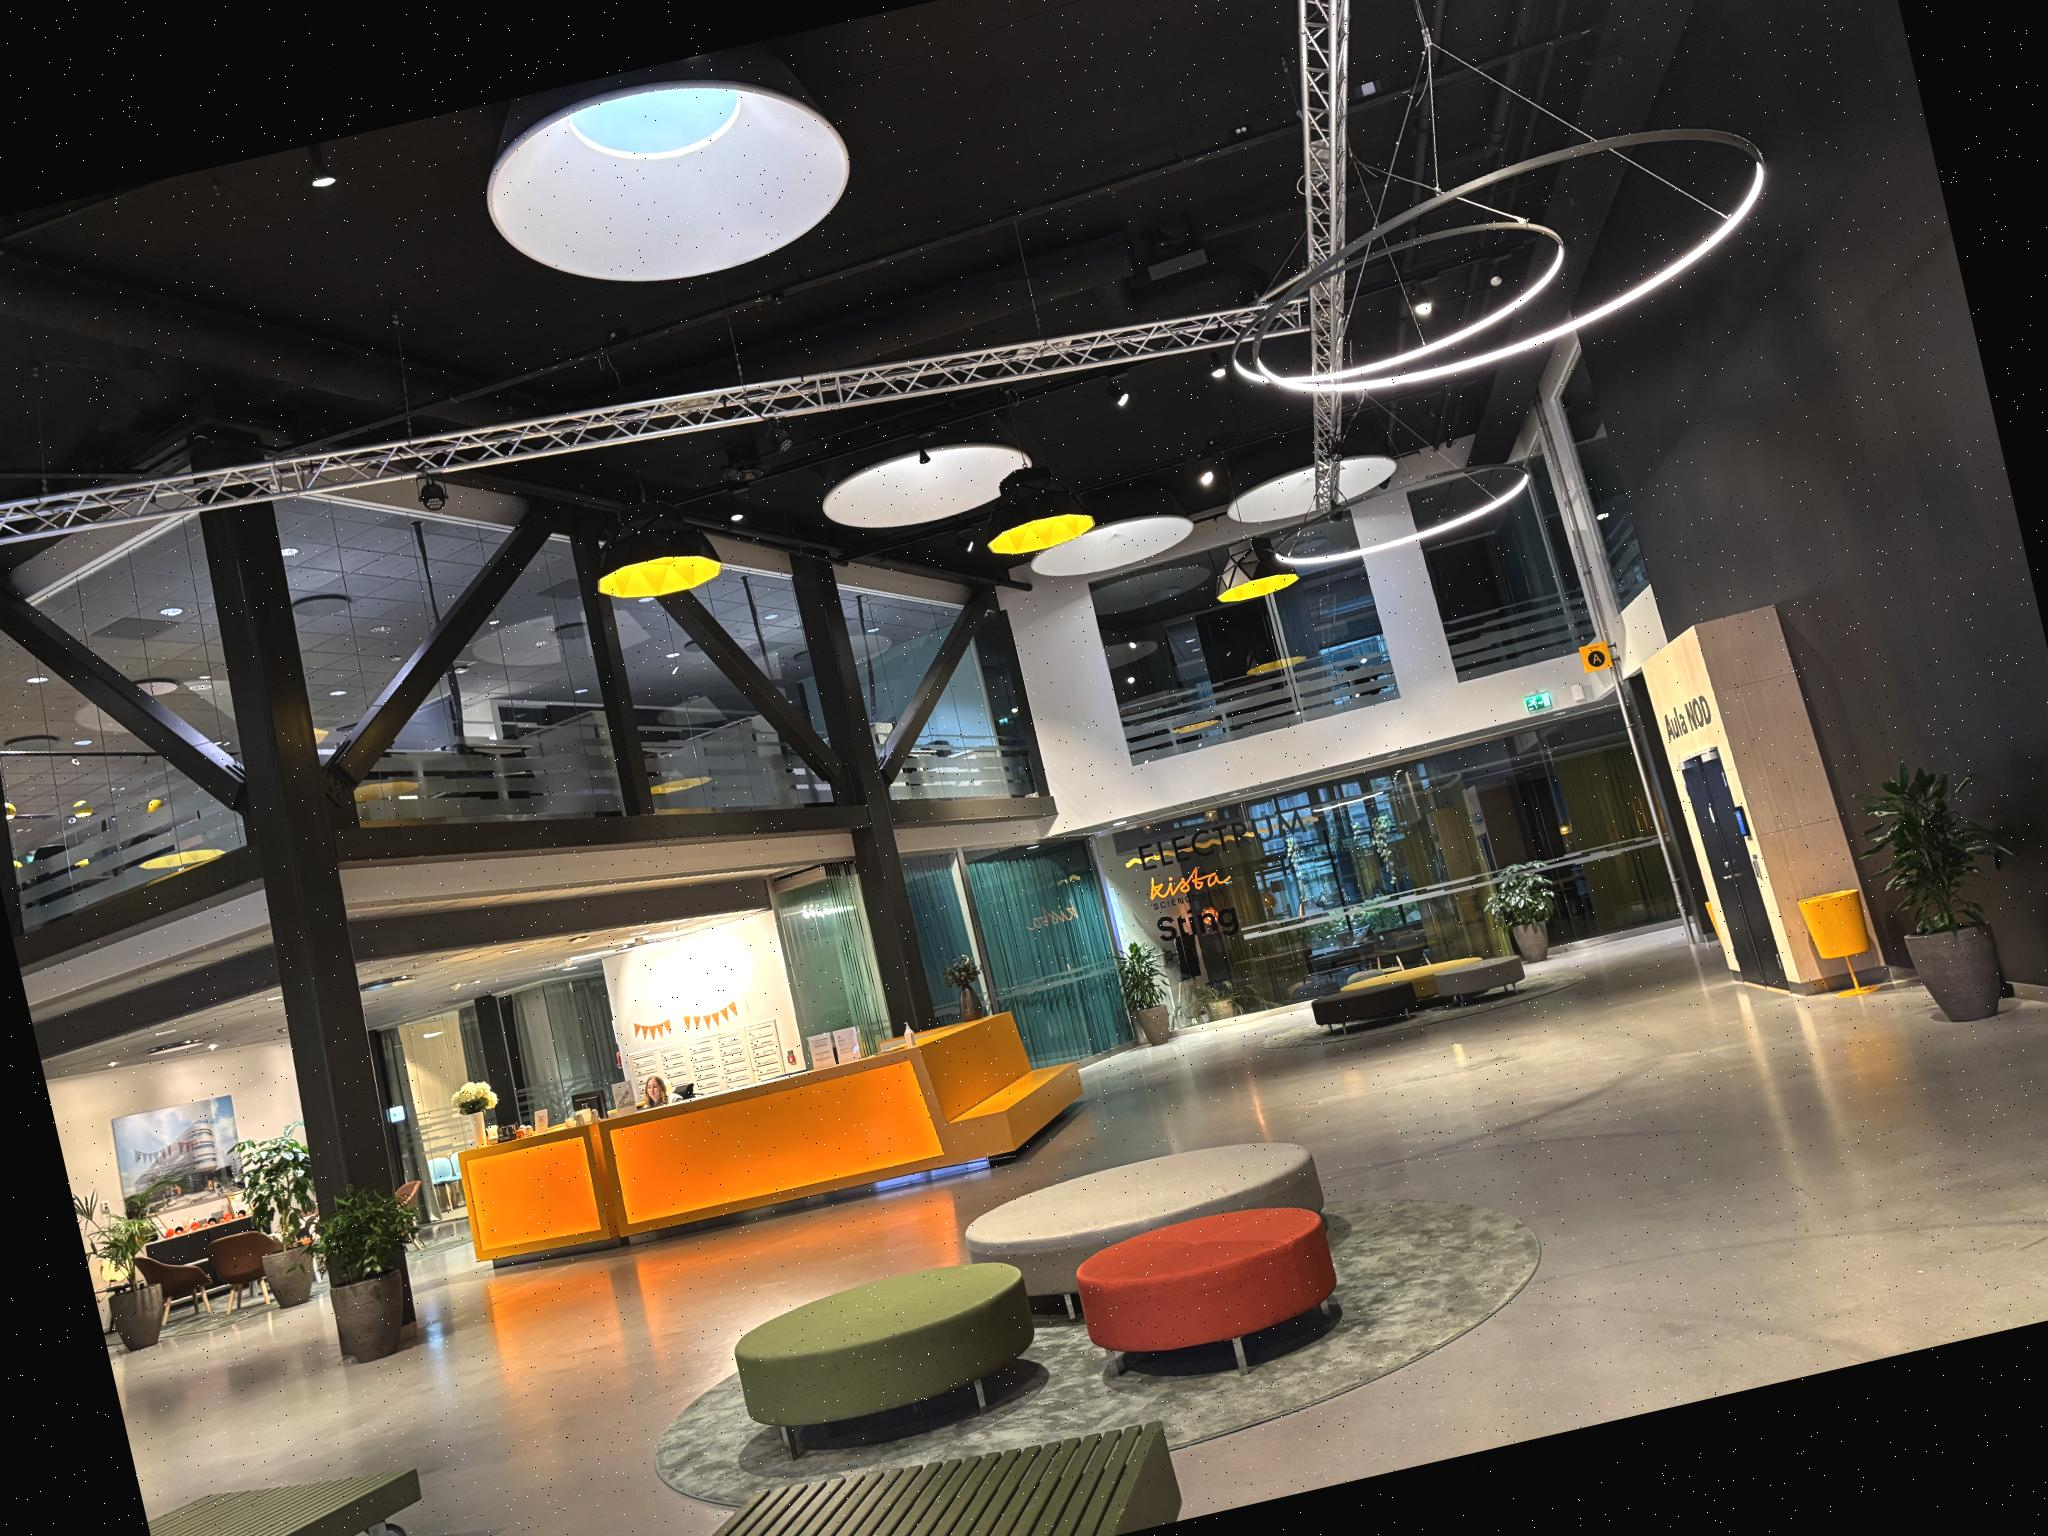exit_sign: (1524, 691, 1551, 712)
